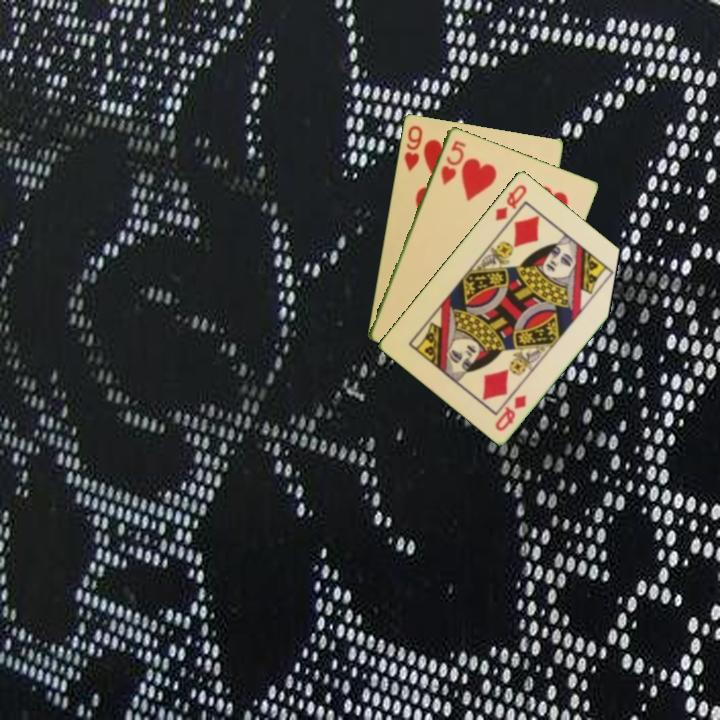5h: (437, 136, 469, 187)
9h: (400, 122, 425, 174)
Qd: (491, 181, 530, 223), (491, 391, 529, 434)
